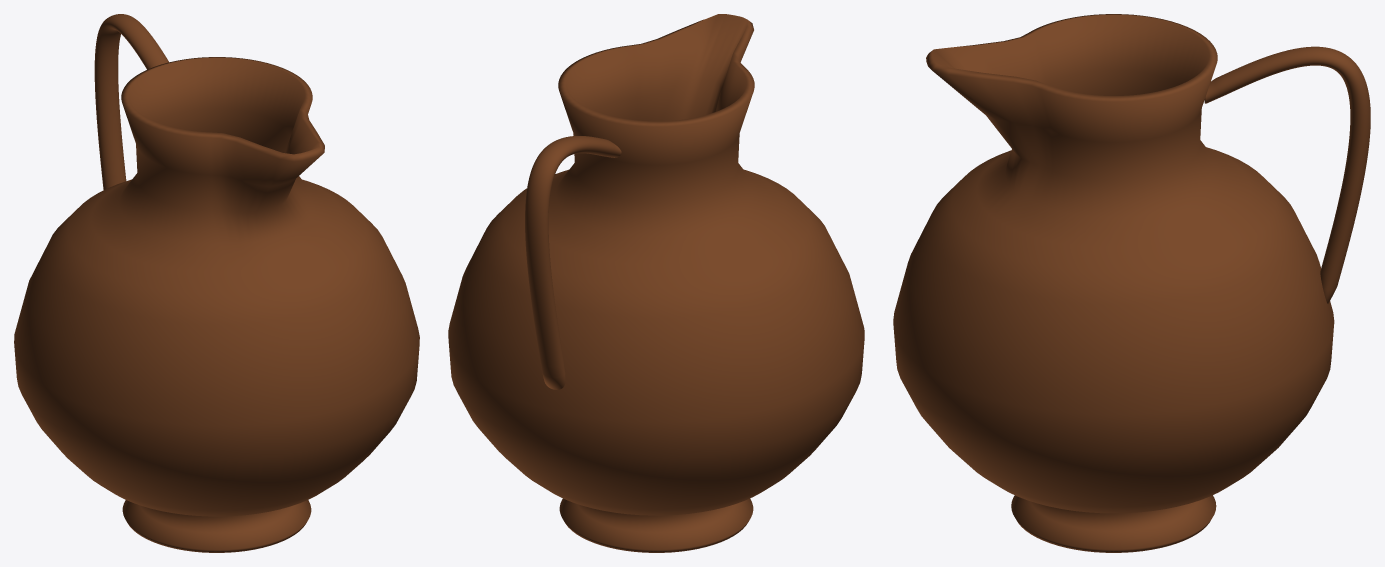
Rendered from MediumVase1Handle.fbx.
3 renders of one model, left to right at view 1: azimuth 30°, elevation 25°; view 2: azimuth 150°, elevation 25°; view 3: azimuth 270°, elevation 25°, orthographic. The views are drawn at different scales.
Parts seen in each view (by area): view 1: Sphere, BezierCurve; view 2: Sphere, BezierCurve; view 3: Sphere, BezierCurve.
Boxes of the visible parts, box(x1,y1,x2,y2) form: Sphere: box(14, 57, 419, 552); BezierCurve: box(94, 14, 168, 189); Sphere: box(448, 14, 864, 552); BezierCurve: box(525, 136, 621, 389); Sphere: box(893, 14, 1334, 552); BezierCurve: box(1204, 46, 1370, 303).
Bounding box in the file's own units: 201 × 233 × 218.
